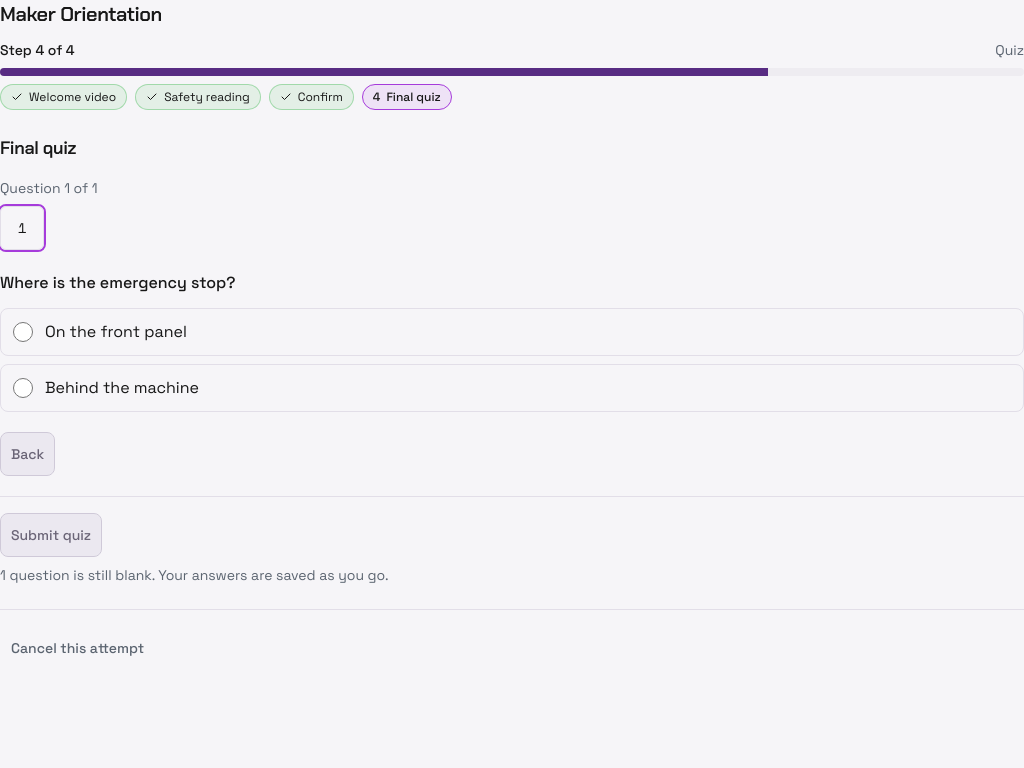
Test: TrainingPlayer › can cancel an attempt after confirming
Click the button "Cancel this attempt" at (78, 648), box [0,626,155,670]
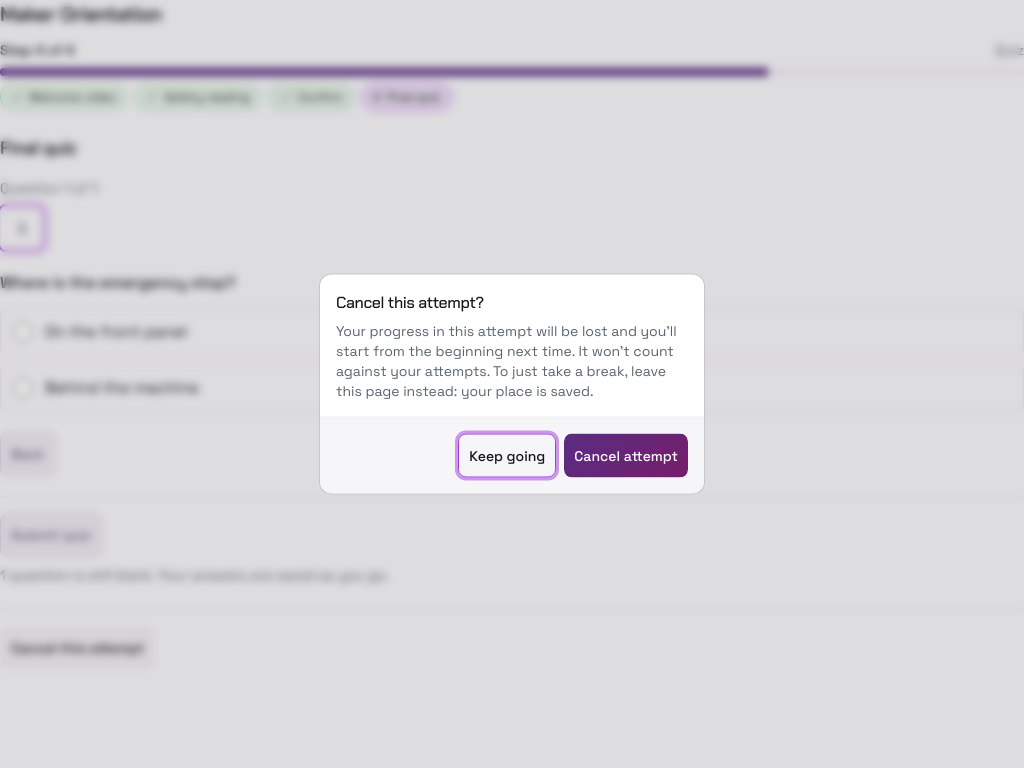
Click the button "Cancel attempt" at (626, 456), box [564,434,688,478]
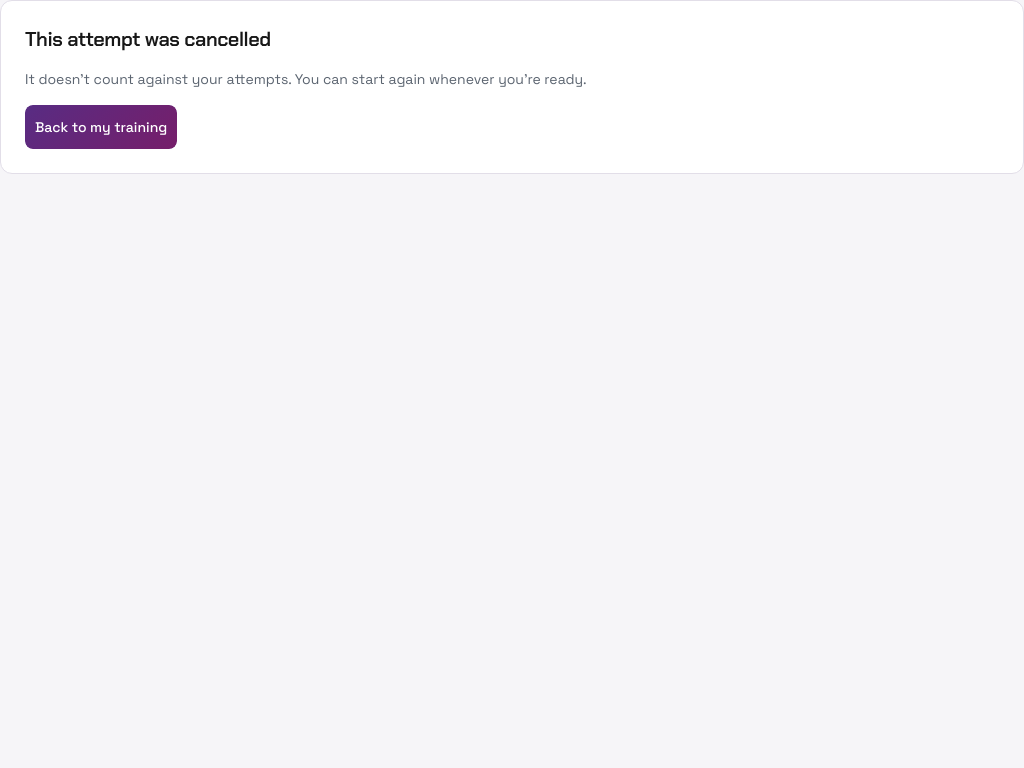
Result: the heading "This attempt was cancelled" is shown at [25,26,271,52]
